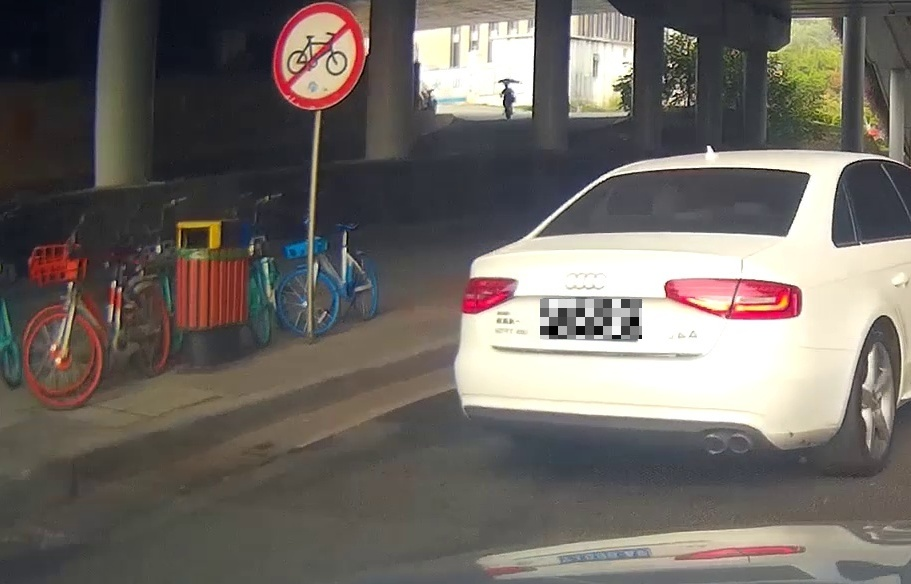L_light: (461, 276, 520, 314)
R_light: (664, 278, 803, 320)
T_light: (683, 167, 721, 174)
day-right: (453, 150, 812, 476)
plate_1: (540, 299, 642, 339)
